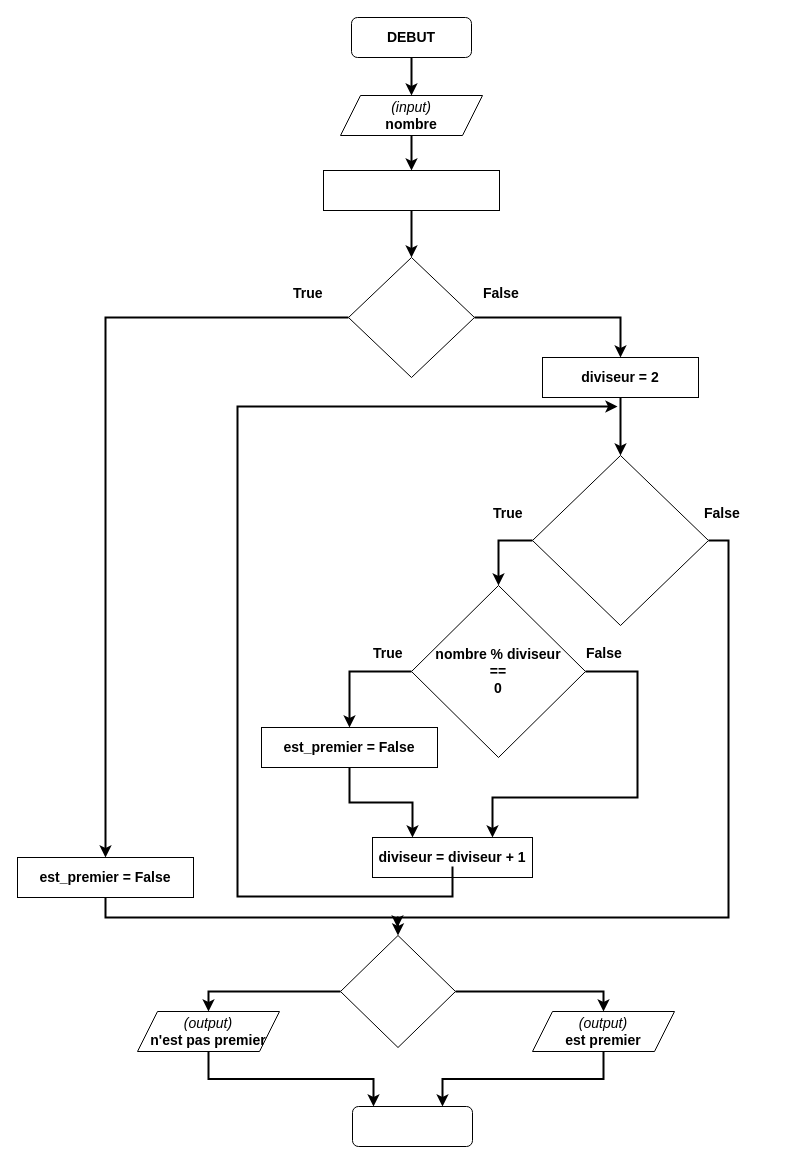
Image size: 796x1164. Some labels were removed from this diagram. Each missing label, with the centre of its shape:
diviseur * diviseur <= nombre: (x=620, y=540)
est_premier = True: (x=411, y=190)
est_premier == True: (x=398, y=991)
FIN: (x=412, y=1126)
nombre <= 1: (x=411, y=317)
